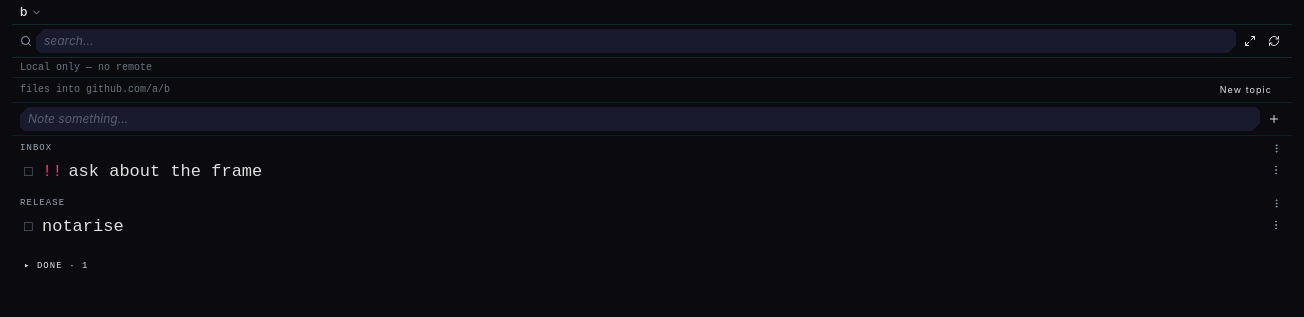
Test: NotesTool › hides what is done until it is asked for, rather than deleting it
Expected: the text "ask about the frame" is shown, [68,162,262,181]
Expected: the text "shipped" is not shown
Click the button "▸ DONE · 1": (63, 266) [12,257,1292,277]
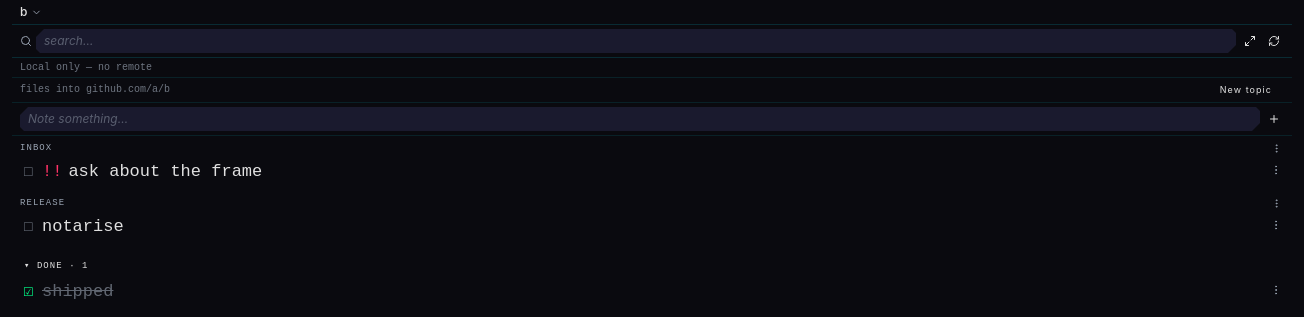
Now the text "shipped" is shown, box [42,282,113,301]
